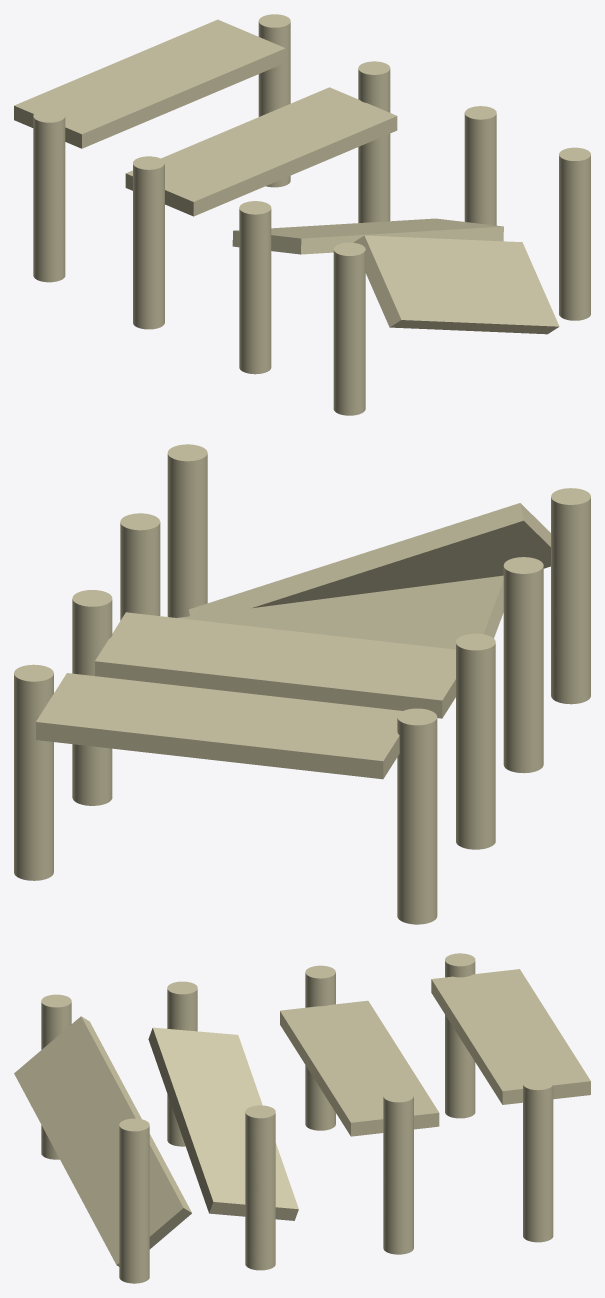
The model's file is SM_WB_Dock1.FBX.
The picture shows the model from 3 angles, top to bottom: view 1: azimuth 30°, elevation 25°; view 2: azimuth 150°, elevation 25°; view 3: azimuth 270°, elevation 25°; orthographic projection. The views are drawn at different scales.
Parts seen in each view (by area): view 1: SM_WB_Dock1; view 2: SM_WB_Dock1; view 3: SM_WB_Dock1.
Boxes of the visible parts, bbox=[...] form: SM_WB_Dock1: bbox=[14, 14, 590, 415]; SM_WB_Dock1: bbox=[14, 444, 590, 924]; SM_WB_Dock1: bbox=[14, 953, 590, 1283].
Bounding box in the file's own units: 345 × 472 × 145.
